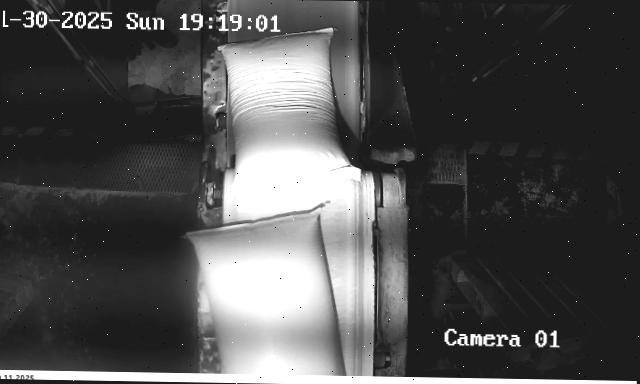bag: (184, 206, 354, 375), (215, 25, 366, 206)
